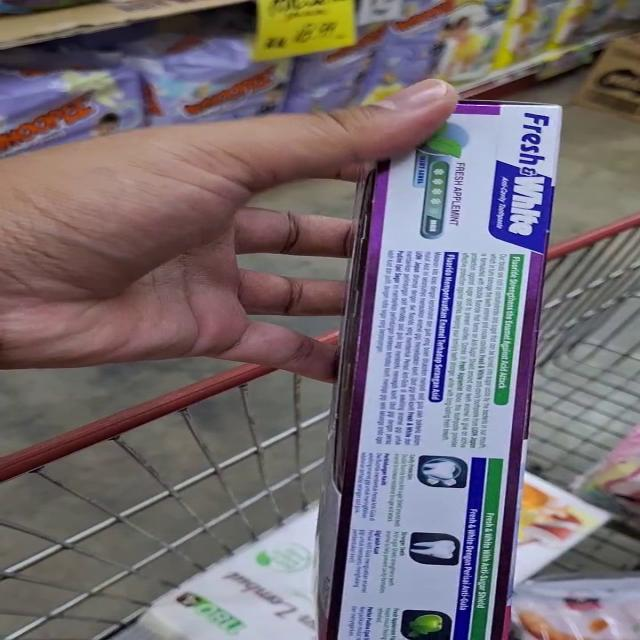Tisu: (148, 516, 319, 640), (508, 478, 619, 564)
Ubat Gigi: (330, 68, 584, 394), (298, 375, 514, 640)
